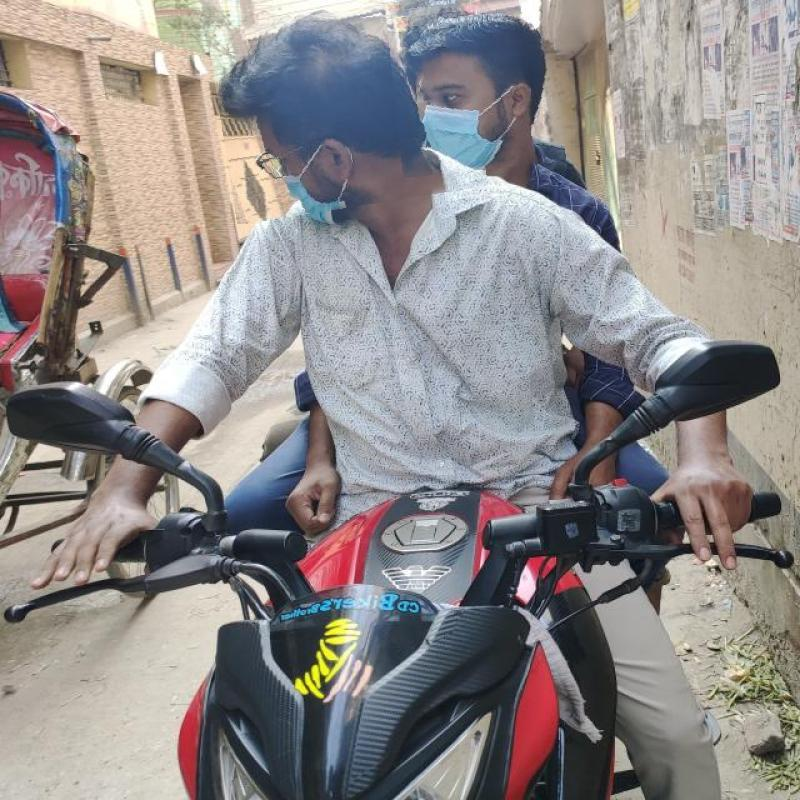nohelmet: (214, 1, 482, 216), (389, 0, 562, 173)
